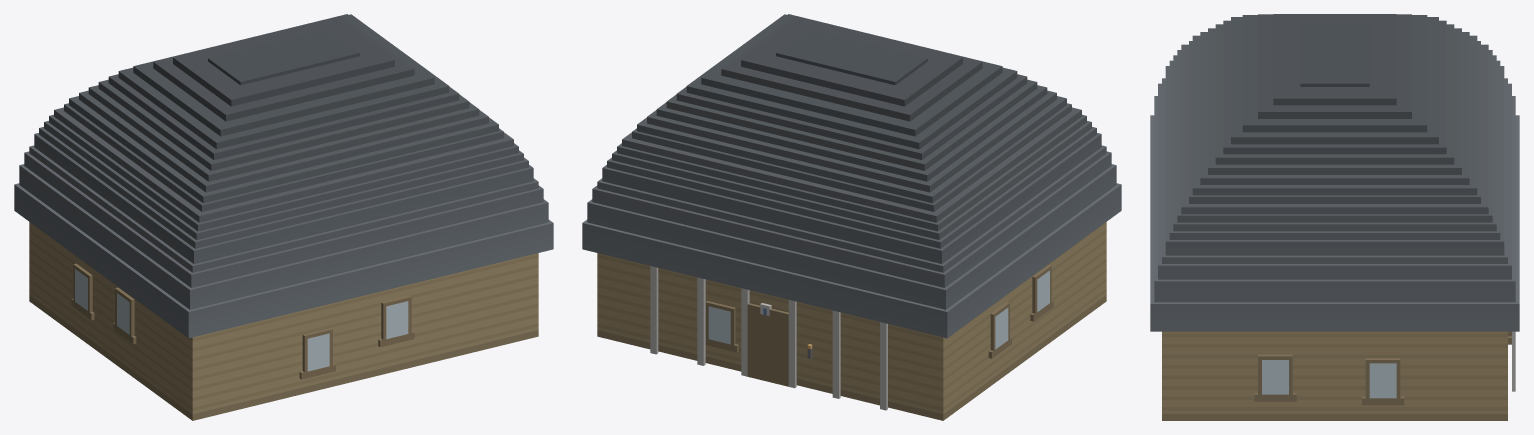
The model's file is biblioteca_publica_03.glb.
3 renders of one model, left to right at view 1: azimuth 30°, elevation 25°; view 2: azimuth 150°, elevation 25°; view 3: azimuth 270°, elevation 25°, orthographic. The views are drawn at different scales.
Parts seen in each view (by area): view 1: biblioteca_publica_03; view 2: biblioteca_publica_03; view 3: biblioteca_publica_03.
Boxes of the visible parts, <box> form: biblioteca_publica_03: <box>14,14,553,420</box>; biblioteca_publica_03: <box>582,14,1121,420</box>; biblioteca_publica_03: <box>1150,14,1519,420</box>.
Size of the model in its own units: 11.6 by 8 by 9.6.
